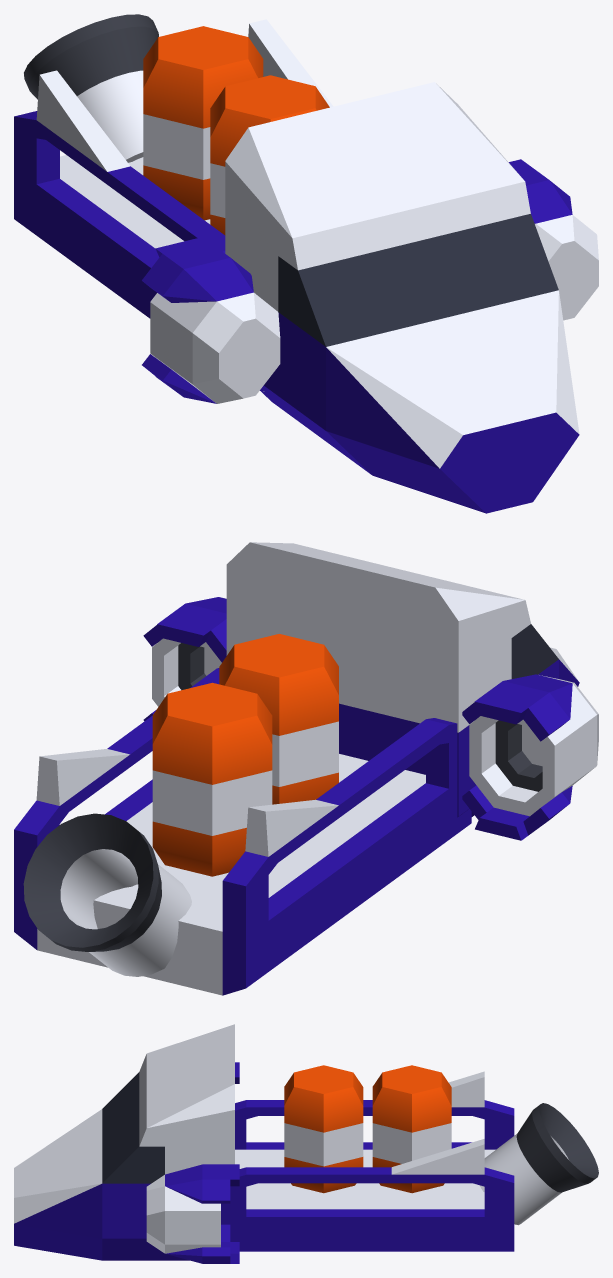
File: Ship2.fbx
3 views of the same model, one above another, from view 1: azimuth 30°, elevation 25°; view 2: azimuth 150°, elevation 25°; view 3: azimuth 270°, elevation 25° (orthographic). The views are drawn at different scales.
Parts seen in each view (by area): view 1: mergedBlocks; view 2: mergedBlocks; view 3: mergedBlocks.
Boxes of the visible parts, bbox=[...] form: mergedBlocks: bbox=[14, 14, 598, 513]; mergedBlocks: bbox=[14, 542, 598, 995]; mergedBlocks: bbox=[14, 1024, 598, 1263].
Size of the model in its own units: 0.3324 by 0.2184 by 0.6285.
